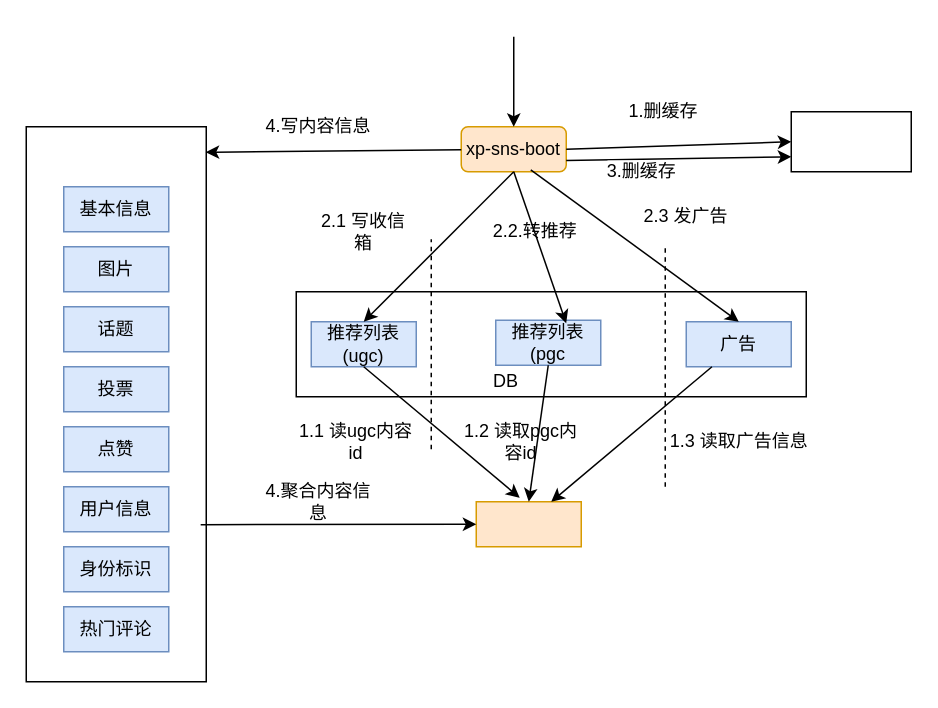
Image size: 938x708. Some labels were removed from this diagram. Each missing label, with the box of its shape:
cache: (790, 110, 911, 172)
merge: (475, 500, 581, 547)
